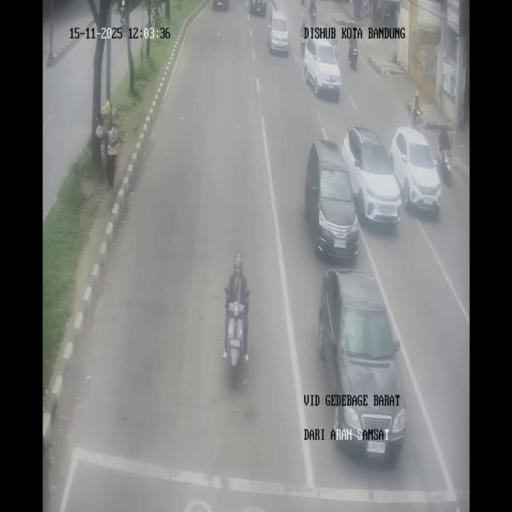car: (319, 270, 404, 460), (304, 138, 358, 260), (391, 126, 442, 216), (304, 37, 340, 100), (267, 9, 289, 55), (250, 0, 266, 16)
truck: (223, 298, 248, 386), (436, 130, 454, 186), (407, 102, 424, 127), (348, 46, 358, 70), (361, 0, 370, 18), (309, 4, 316, 25), (331, 36, 338, 56), (377, 5, 385, 22), (301, 32, 306, 57), (384, 11, 391, 26)
